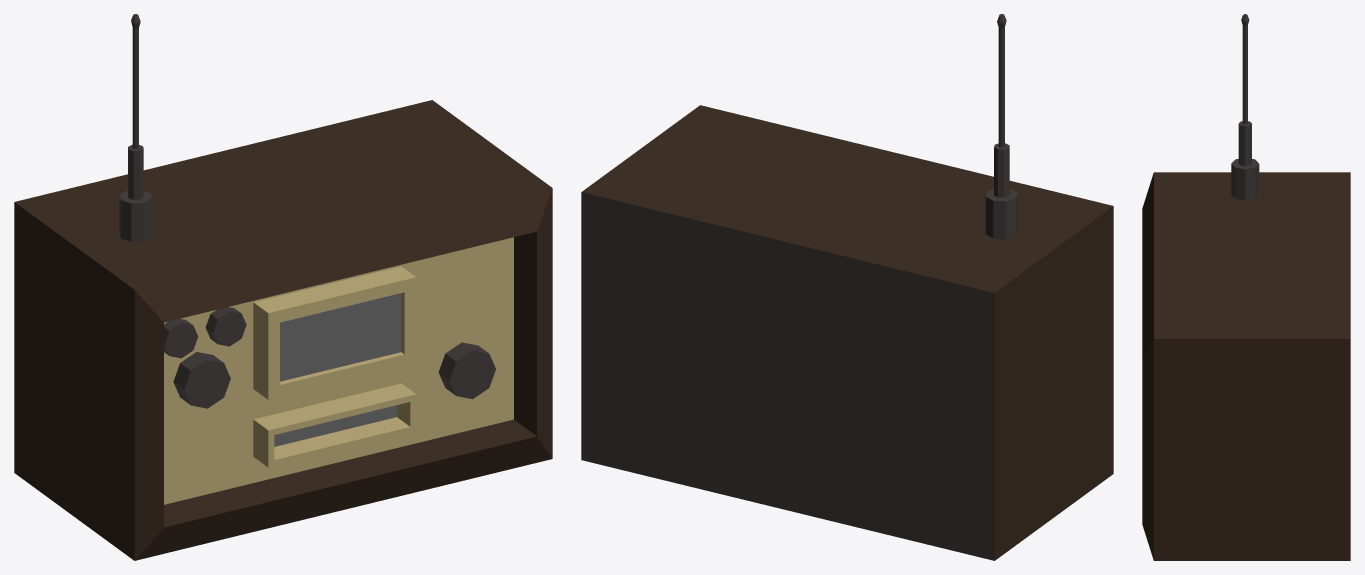
File: Radio.fbx
3 views of the same model, side by side, from view 1: azimuth 30°, elevation 25°; view 2: azimuth 150°, elevation 25°; view 3: azimuth 270°, elevation 25° (orthographic). The views are drawn at different scales.
Visible parts, largest first — view 1: Cube; view 2: Cube; view 3: Cube.
Boxes of the visible parts, box(x1,y1,x2,y2) form: Cube: box(14, 14, 552, 560); Cube: box(581, 14, 1113, 560); Cube: box(1142, 14, 1350, 560).
Size of the model in its own units: 179 by 201 by 94.41.
